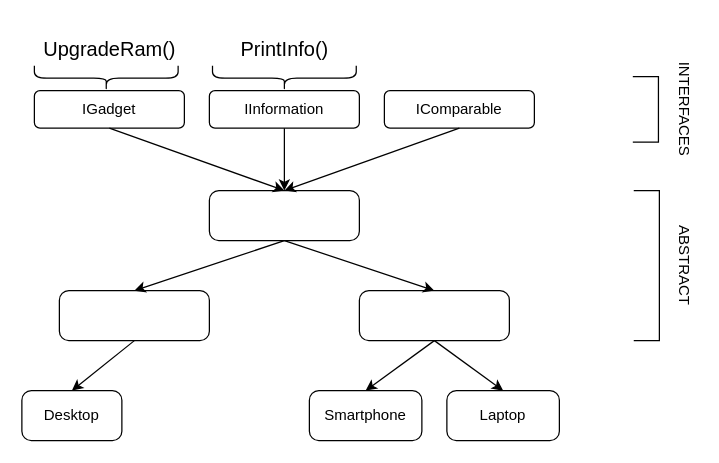
Some shapes in this 719 by 463 pixel diagram are drawn without their labels. The box of each missing label's shape, as (x1, y1, x2, y2) in pixels:
Computer: (208, 189, 359, 241)
DesktopDevice: (58, 289, 209, 341)
MobileDevice: (358, 289, 509, 341)
